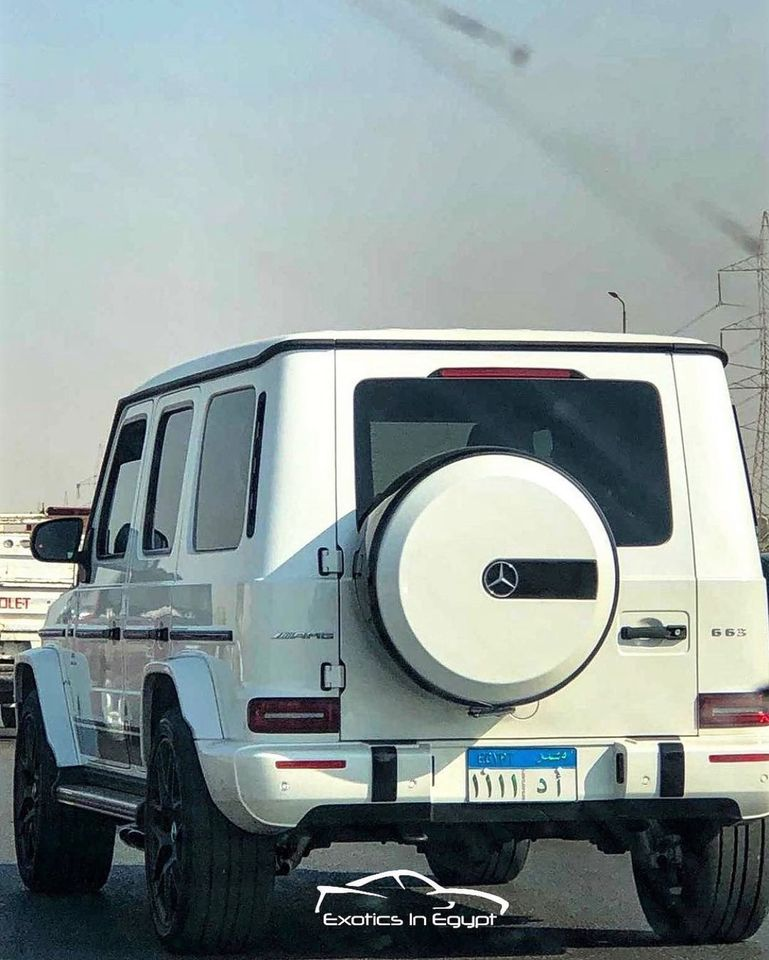carpl: (457, 746, 580, 806)
